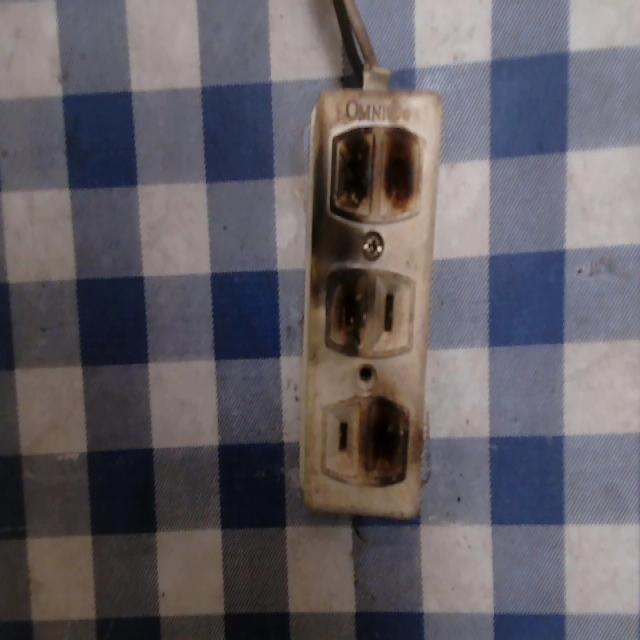-: (320, 116, 431, 225), (314, 252, 380, 361), (365, 392, 409, 483)
